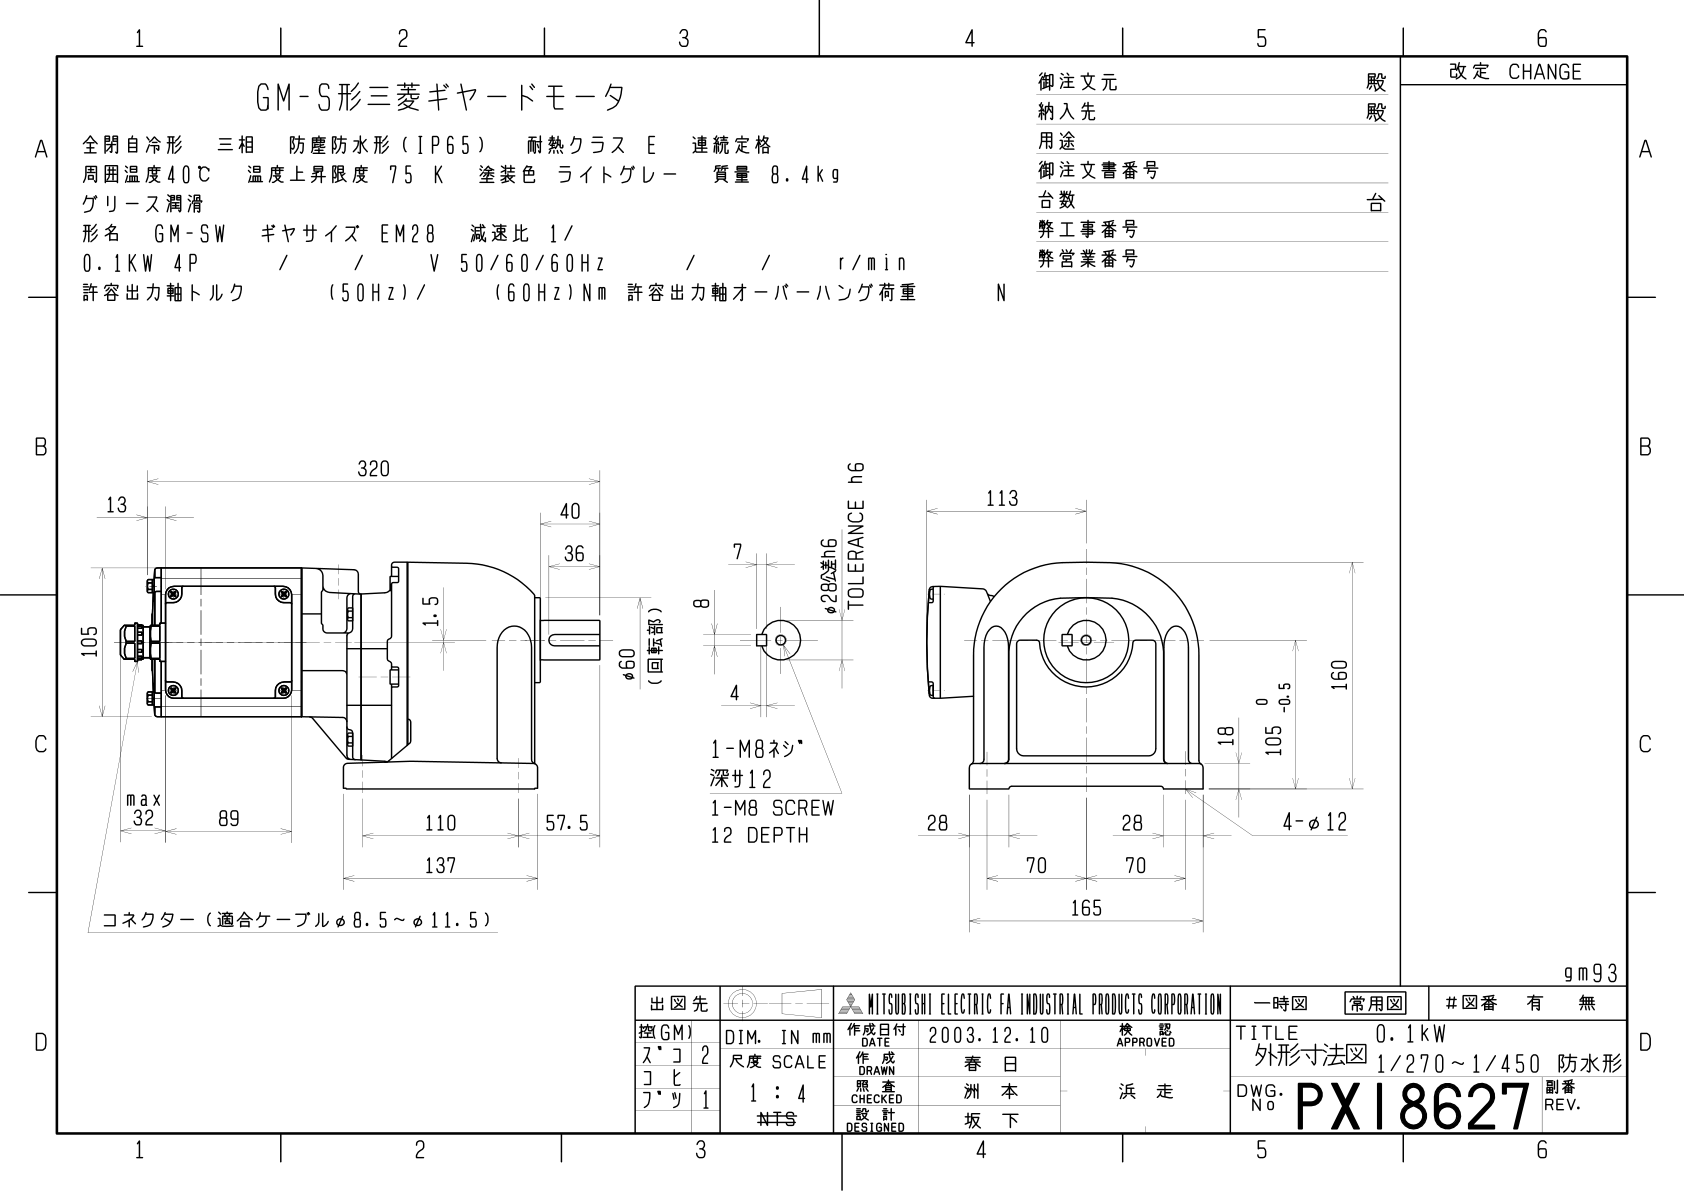GM_S_IP65＿三相_脚: (12, 15, 1681, 1179)
